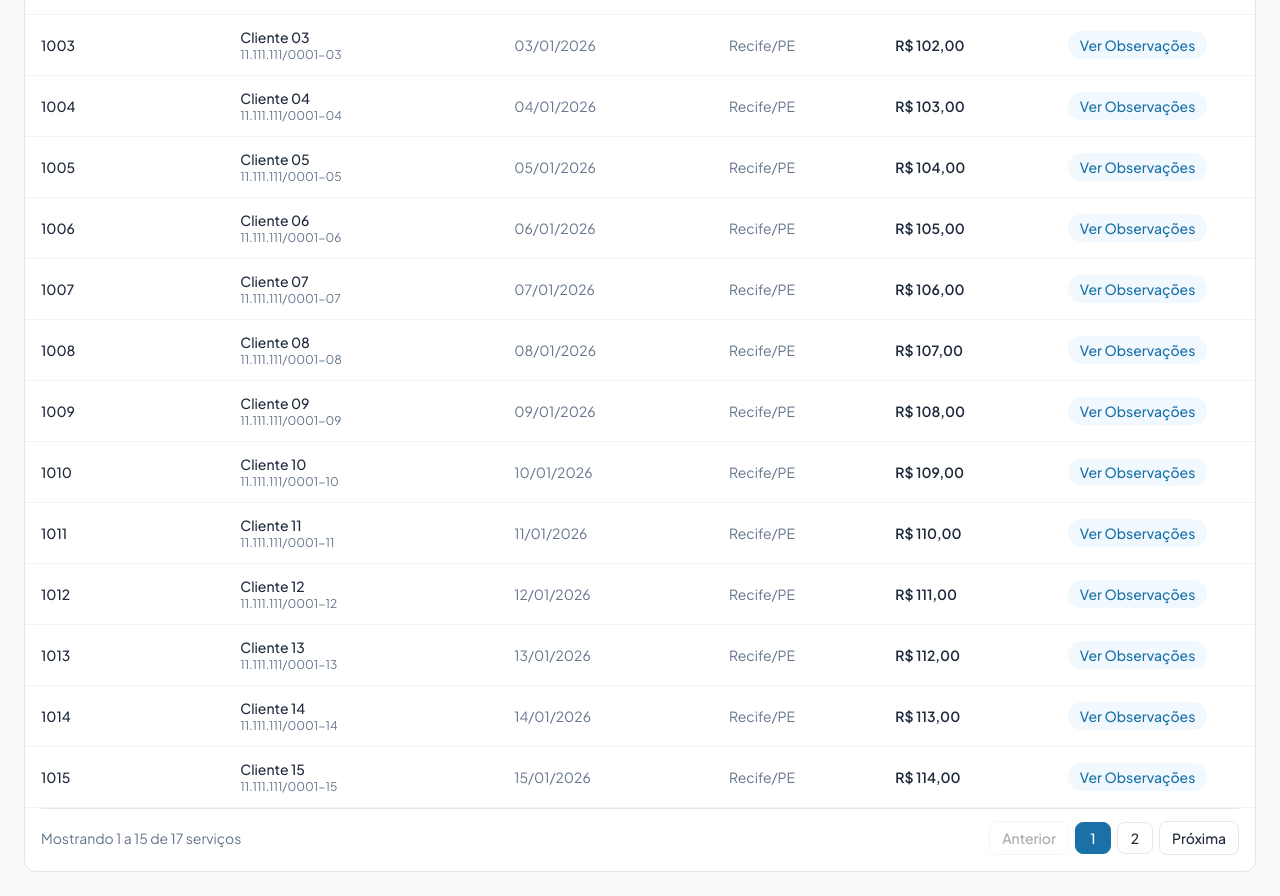
Scenario: paginacao em Servicos › os extremos desabilitam
The image size is (1280, 896).
(page scrolled)
Check: the button "Anterior" is disabled, box [989,821,1069,855]
Click the button "Próxima". click: [1199, 838]
box: [1159,821,1239,855]
(page scrolled)
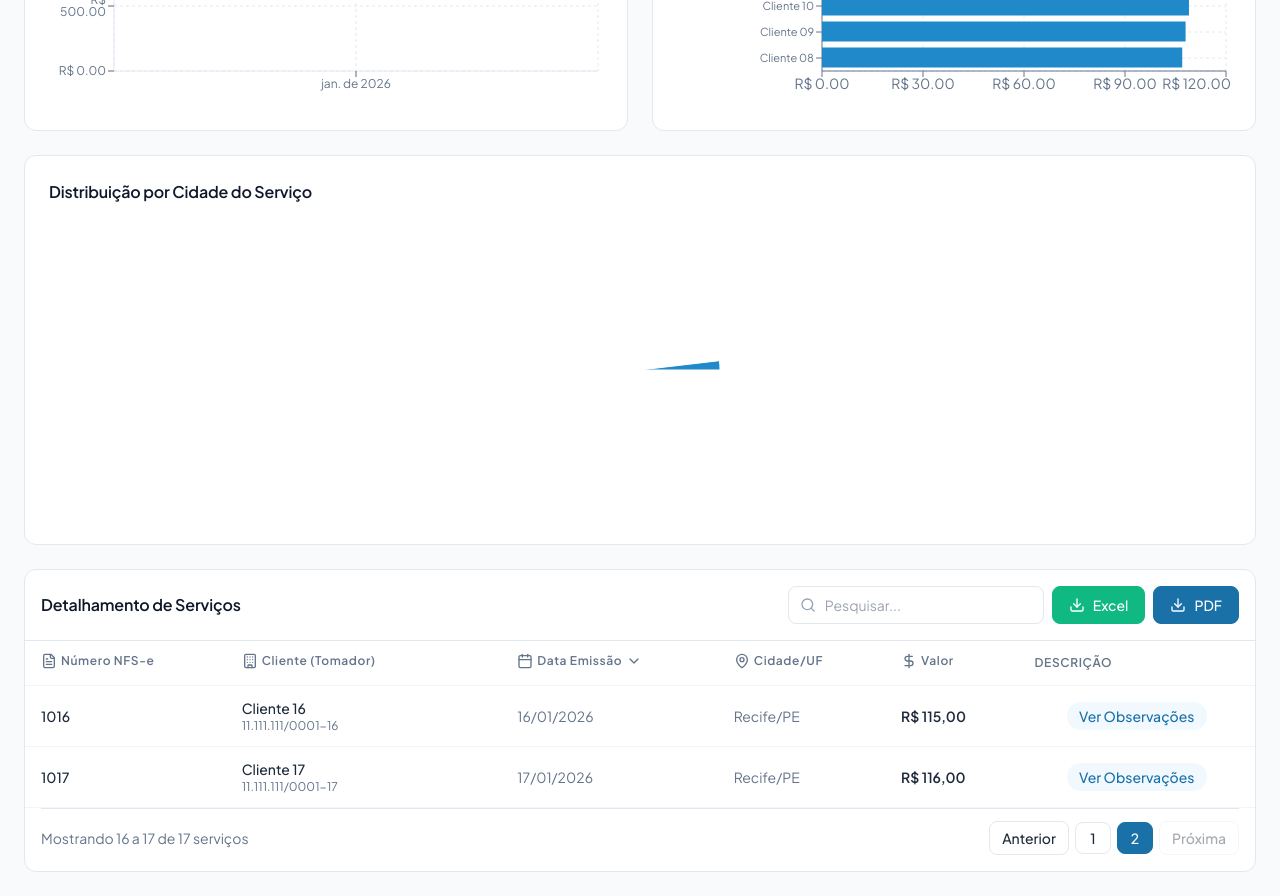
Check: the button "Próxima" is disabled, box [1159,821,1239,855]
Check: the button "Anterior" is enabled, box [989,821,1069,855]
